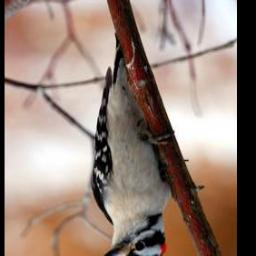Woodpecker: (93, 33, 177, 256)
